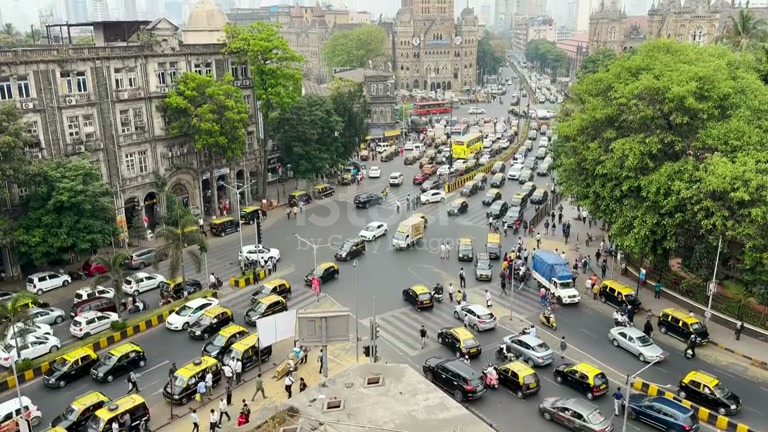bus: (528, 248, 581, 306), (450, 127, 484, 163)
car: (162, 354, 224, 405), (537, 393, 617, 432), (678, 369, 742, 417), (423, 355, 487, 402), (626, 392, 701, 432), (607, 324, 667, 364), (90, 342, 147, 384), (553, 361, 609, 401), (42, 353, 97, 390), (501, 330, 554, 367), (165, 295, 218, 332), (201, 322, 252, 360), (657, 306, 709, 342), (492, 361, 541, 399), (187, 304, 234, 341), (436, 325, 482, 360), (243, 292, 289, 327), (452, 303, 498, 333), (69, 310, 116, 338), (25, 271, 71, 295), (304, 260, 340, 284), (402, 284, 434, 310), (334, 237, 366, 261), (357, 220, 388, 241), (352, 192, 383, 209), (474, 254, 492, 282), (420, 189, 445, 204), (388, 171, 404, 187)
